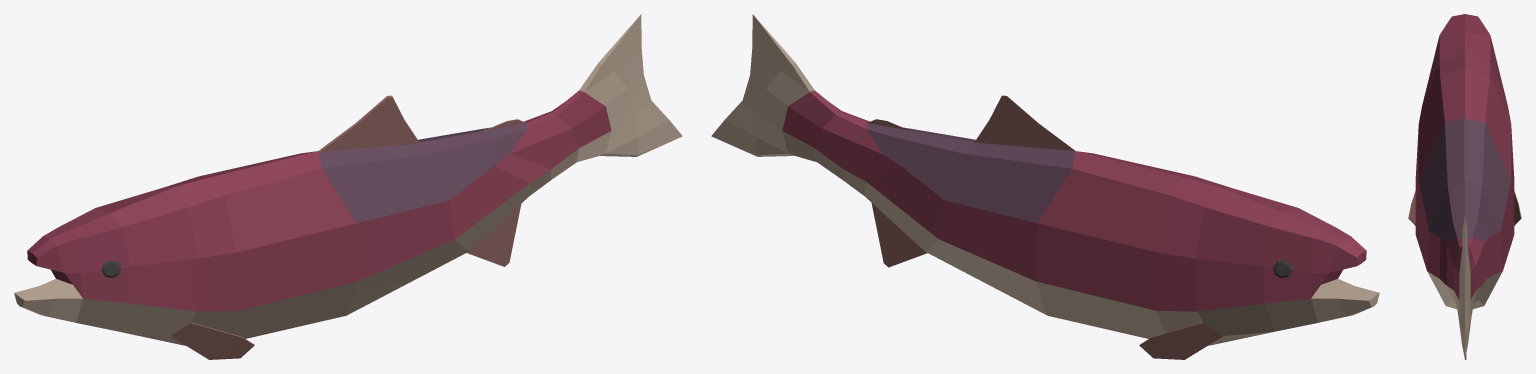
File: Fish_001.fbx
3 views of the same model, side by side, from view 1: azimuth 30°, elevation 25°; view 2: azimuth 150°, elevation 25°; view 3: azimuth 270°, elevation 25° (orthographic). The views are drawn at different scales.
Visible parts, largest first — view 1: Fish_001; view 2: Fish_001; view 3: Fish_001.
Part boxes in pixels (x1,y1,x2,y2): Fish_001: [14, 14, 682, 359]; Fish_001: [711, 14, 1379, 359]; Fish_001: [1408, 14, 1521, 359].
Bounding box in the file's own units: 490 × 159 × 75.81.
